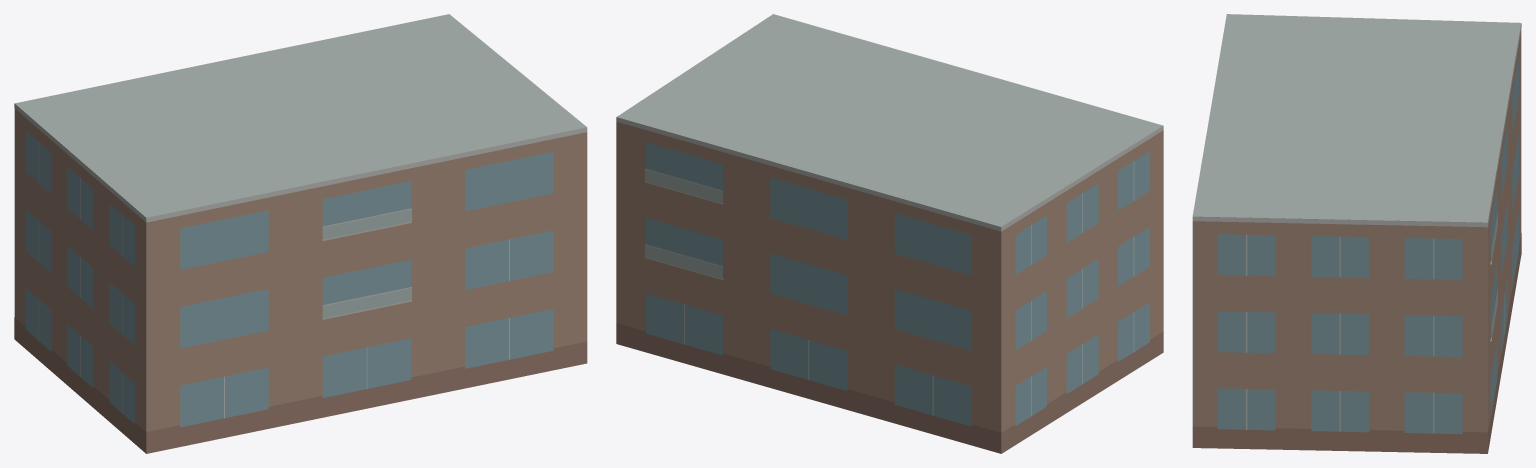
Rendered from survey-upis-32837641.glb.
3 renders of one model, left to right at view 1: azimuth 30°, elevation 25°; view 2: azimuth 150°, elevation 25°; view 3: azimuth 270°, elevation 25°, orthographic. The views are drawn at different scales.
Parts seen in each view (by area): view 1: survey-upis-32837641.tmp; view 2: survey-upis-32837641.tmp; view 3: survey-upis-32837641.tmp.
Boxes of the visible parts, x1=… form: survey-upis-32837641.tmp: x1=14, y1=14, x2=587, y2=453; survey-upis-32837641.tmp: x1=616, y1=14, x2=1163, y2=453; survey-upis-32837641.tmp: x1=1192, y1=14, x2=1521, y2=453.
Size of the model in its own units: 23.58 by 12.19 by 15.72.
